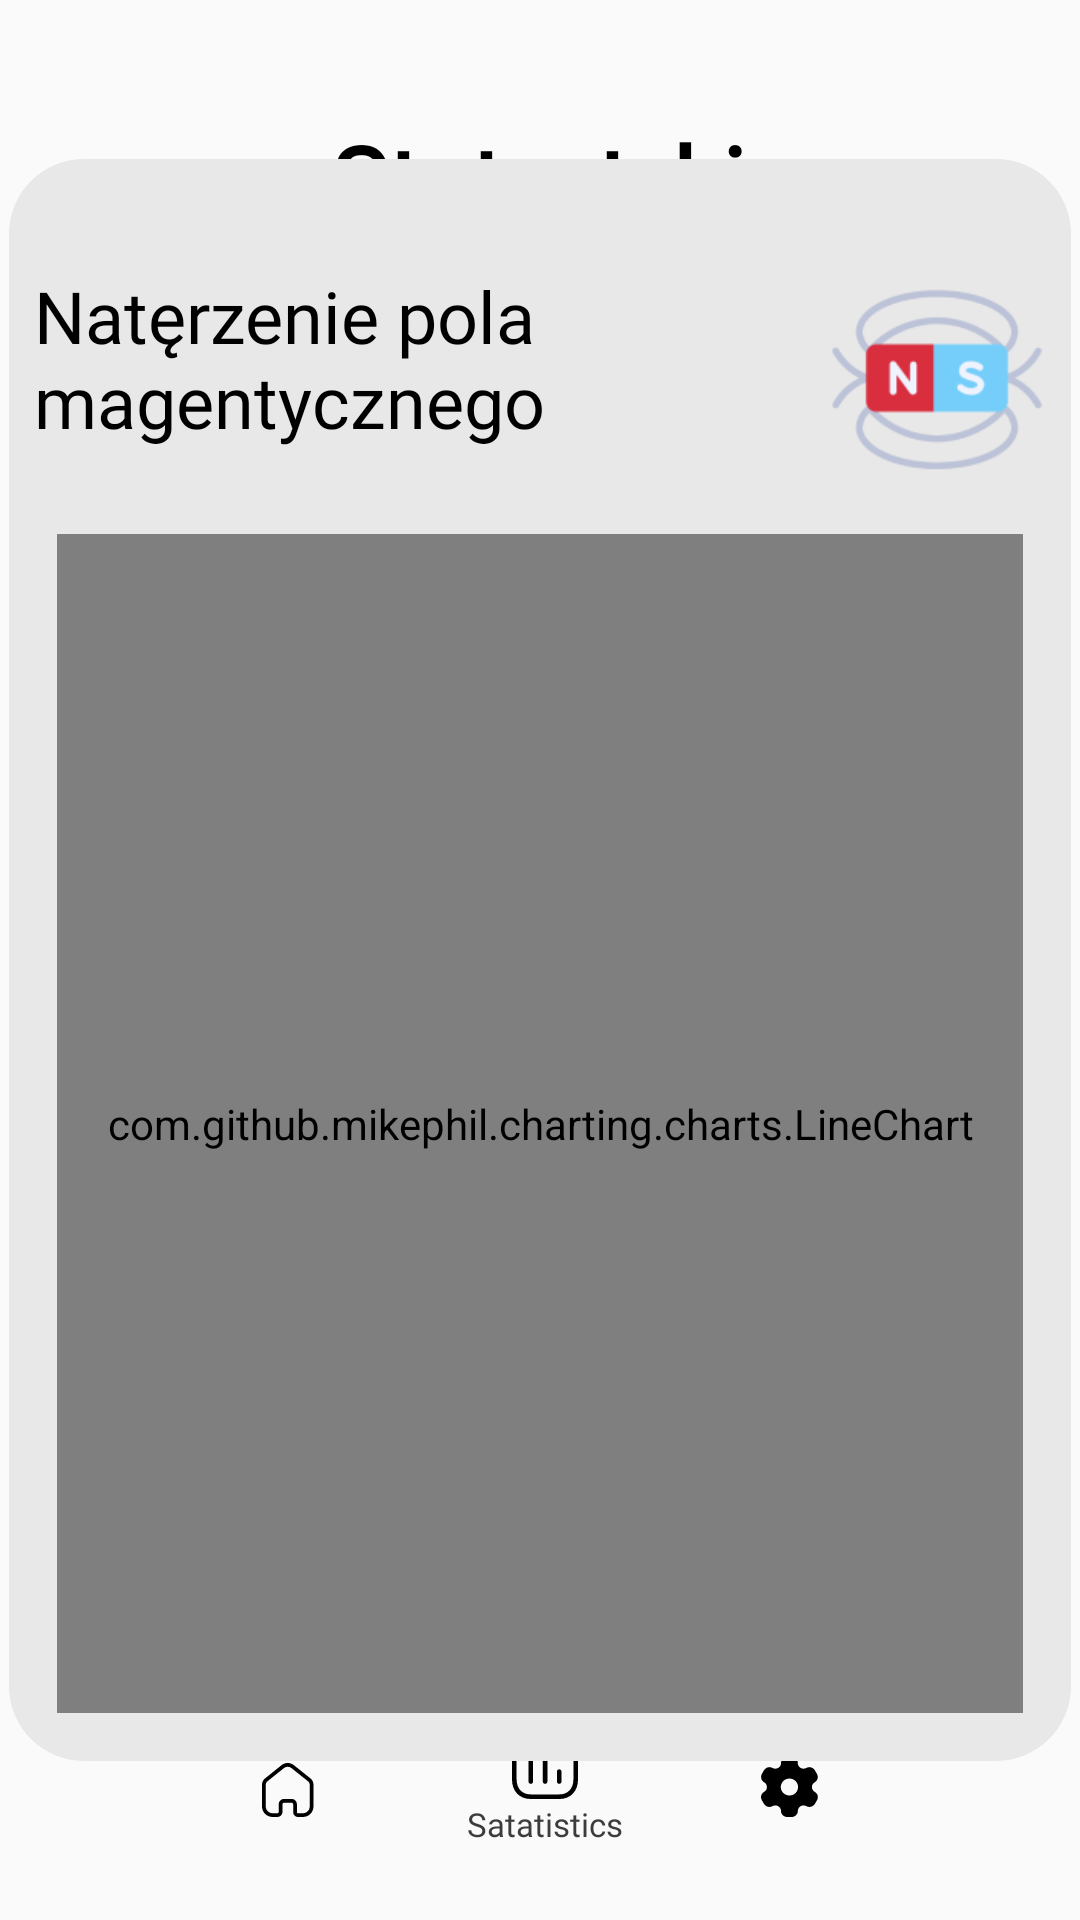

Named icons in this screenshot (1080*1920) and their bounding boxes, (x1, y1, x2, y2):
home: (262, 1763, 314, 1817)
settings: (761, 1761, 818, 1817)
